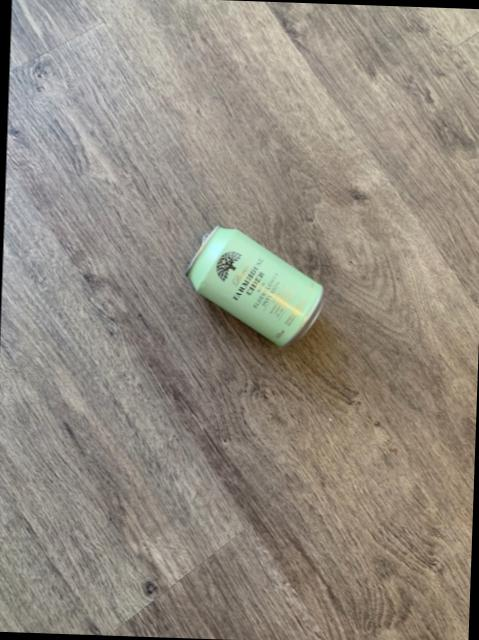metal: (184, 224, 322, 344)
